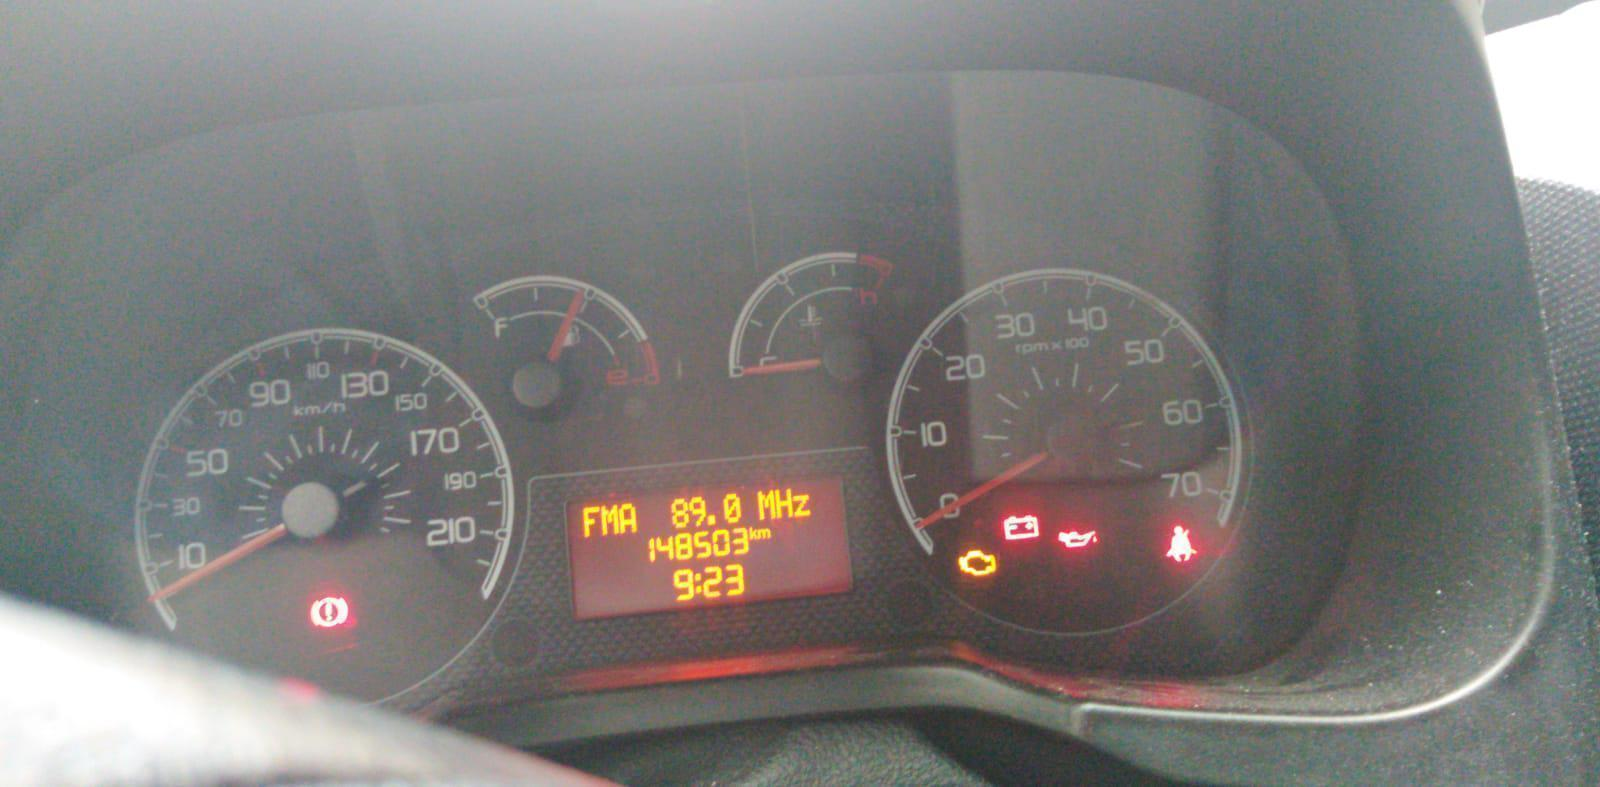,: (706, 513, 717, 526)
0: (722, 492, 742, 524), (712, 528, 731, 557)
1: (647, 536, 656, 563)
2: (701, 565, 723, 599)
3: (724, 562, 744, 597), (731, 526, 750, 555)
4: (655, 534, 676, 561)
5: (693, 530, 712, 560)
8: (670, 497, 689, 529), (676, 531, 693, 560)
9: (672, 568, 694, 601), (689, 495, 707, 528)
X: (581, 505, 600, 539), (600, 503, 619, 536), (756, 489, 776, 521), (774, 487, 794, 518), (619, 502, 637, 534), (792, 493, 811, 518), (693, 572, 702, 594), (757, 527, 772, 540), (749, 526, 757, 541)
odometer: (561, 470, 857, 624)
